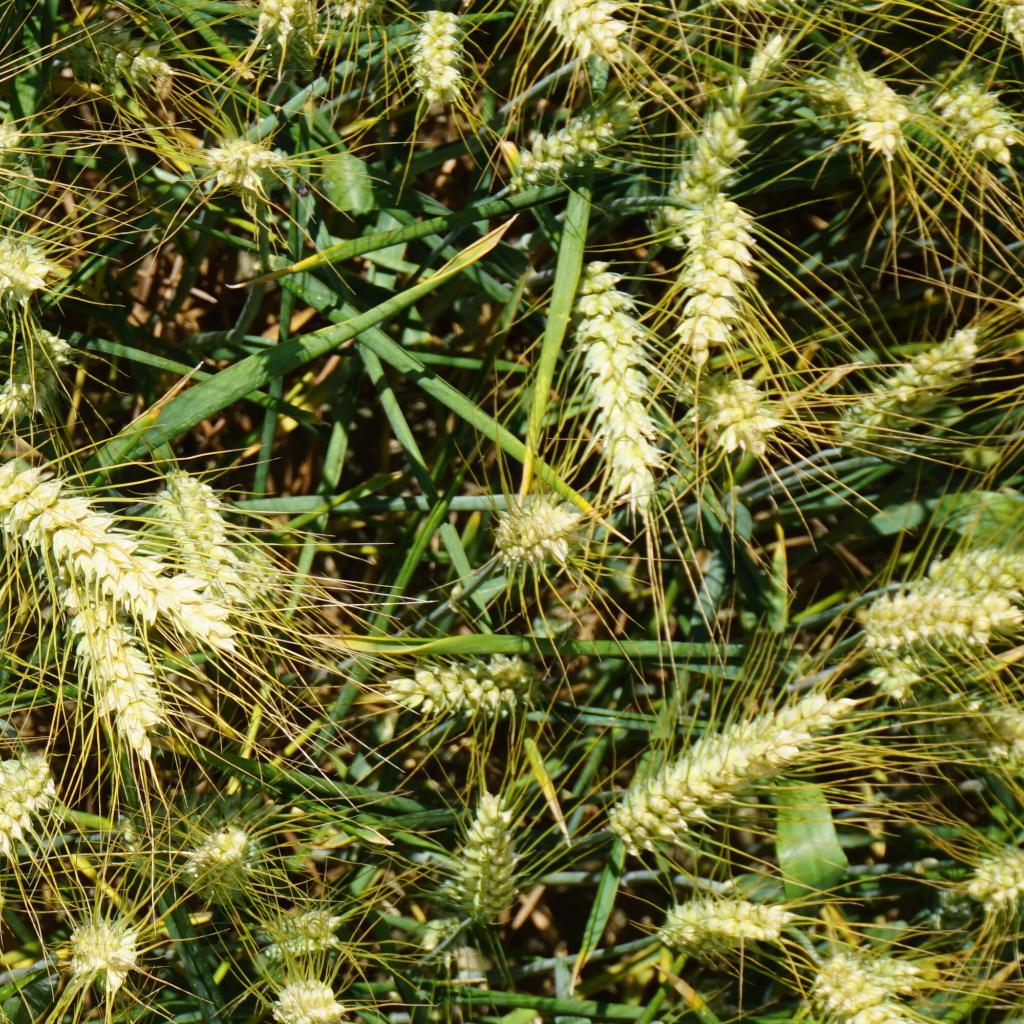0-0: (602, 696, 841, 860), (555, 252, 683, 518), (0, 463, 160, 624), (49, 583, 166, 783), (664, 188, 765, 368), (830, 329, 977, 442), (368, 647, 555, 727), (509, 95, 648, 192), (653, 890, 816, 972), (457, 781, 546, 930), (156, 461, 240, 585), (811, 58, 918, 154), (819, 958, 952, 1024), (858, 591, 995, 654), (932, 683, 1024, 770), (694, 368, 780, 458), (843, 635, 944, 711), (487, 495, 578, 577), (71, 903, 147, 998), (0, 734, 51, 866), (0, 326, 73, 417), (82, 31, 182, 97), (934, 74, 1012, 158), (408, 4, 469, 110), (914, 539, 1024, 594), (679, 92, 736, 197), (542, 0, 632, 66), (181, 806, 258, 883), (258, 965, 352, 1024), (163, 582, 240, 650), (961, 837, 1024, 915), (246, 906, 354, 950), (204, 137, 286, 193), (0, 229, 53, 310), (732, 35, 792, 99), (233, 541, 293, 602), (256, 0, 315, 48)
